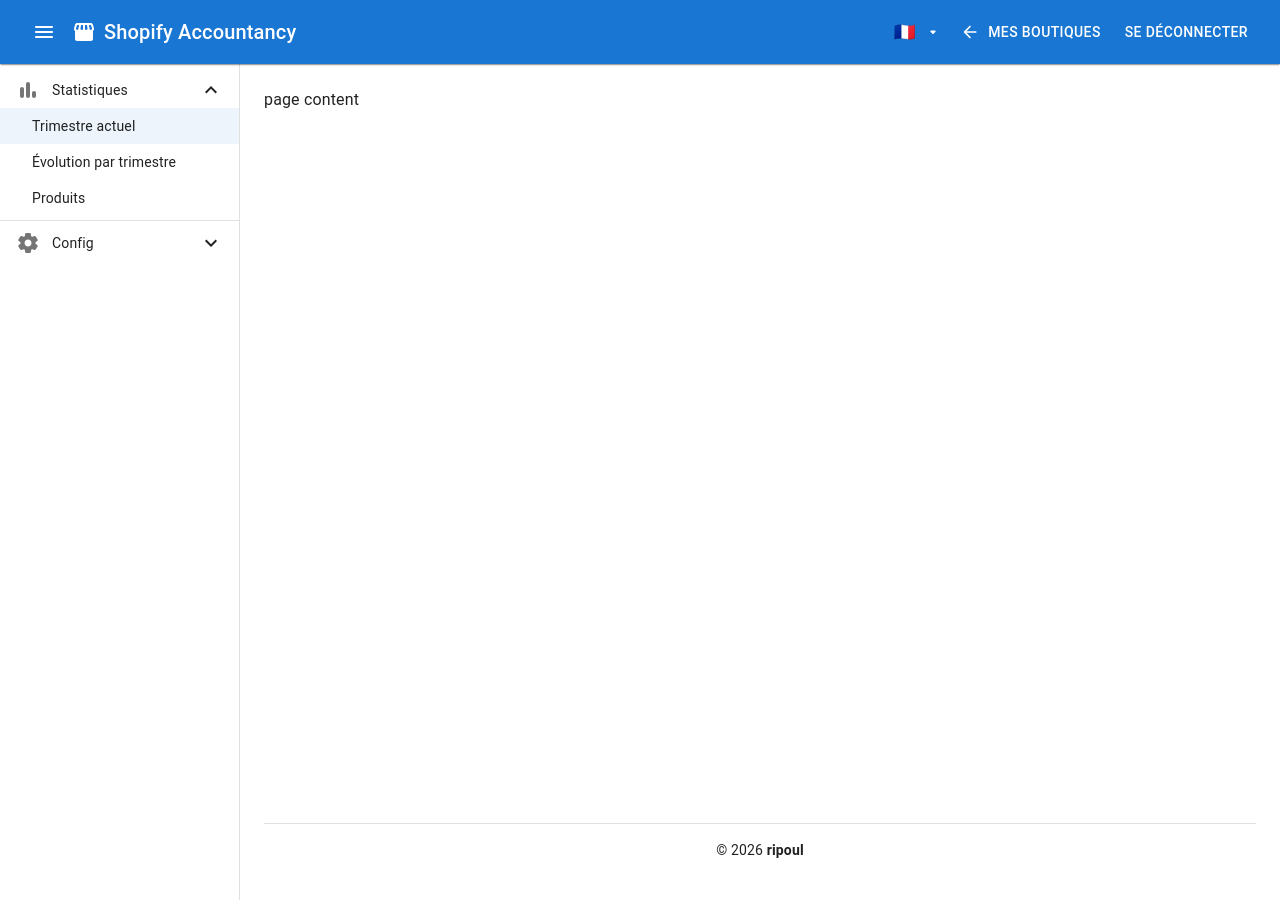
Test: StoreLayout › clicking Config expands its sub-items
The image size is (1280, 900).
What coordinates should you click on to do the following:
click the button "Config"
I would click on:
 (73, 243)
Its box is [0, 225, 239, 261].
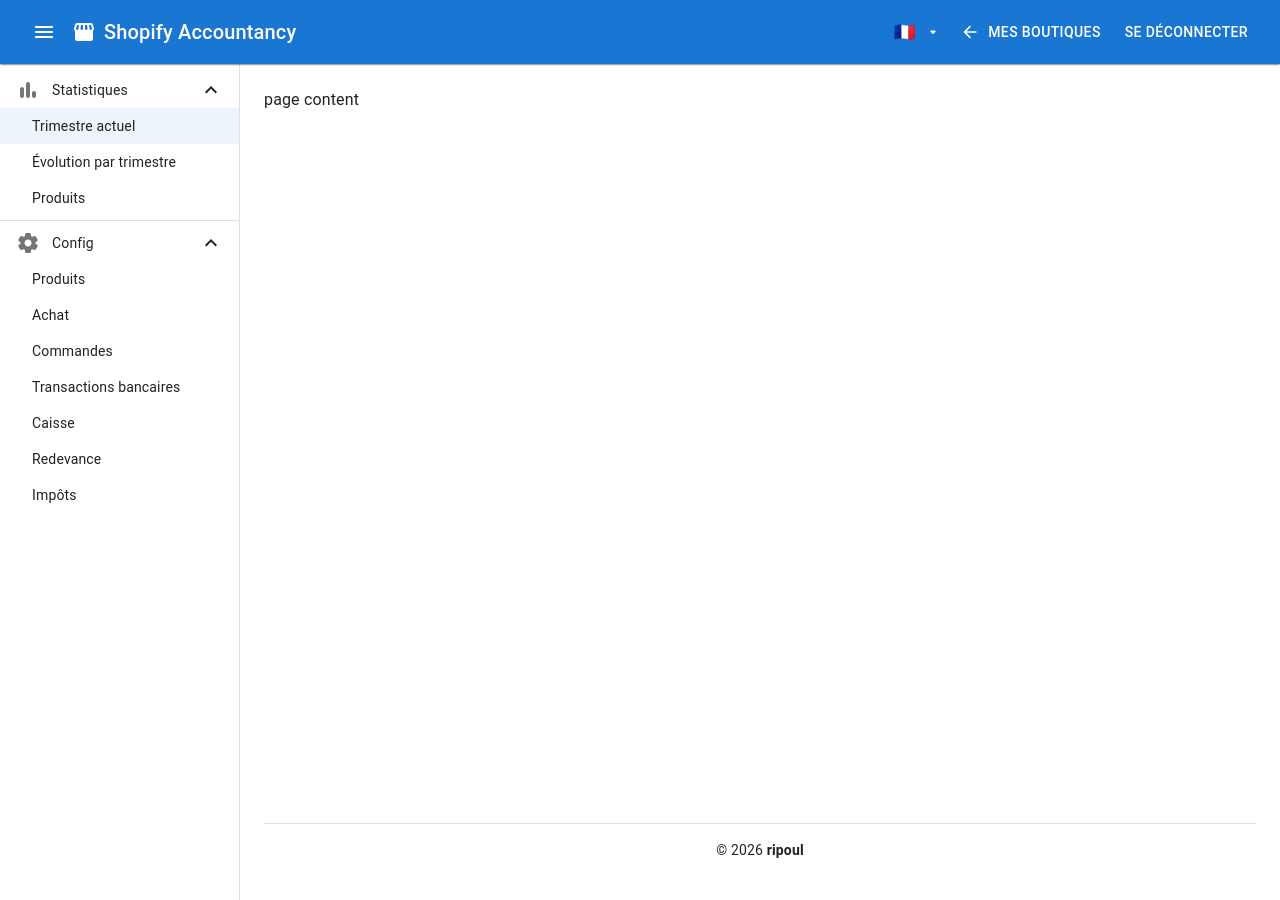
Expected: the link "Achat" is shown, [32, 307, 69, 323]
Expected: the link "Commandes" is shown, [32, 343, 113, 359]
Expected: the link "Transactions bancaires" is shown, [32, 379, 180, 395]
